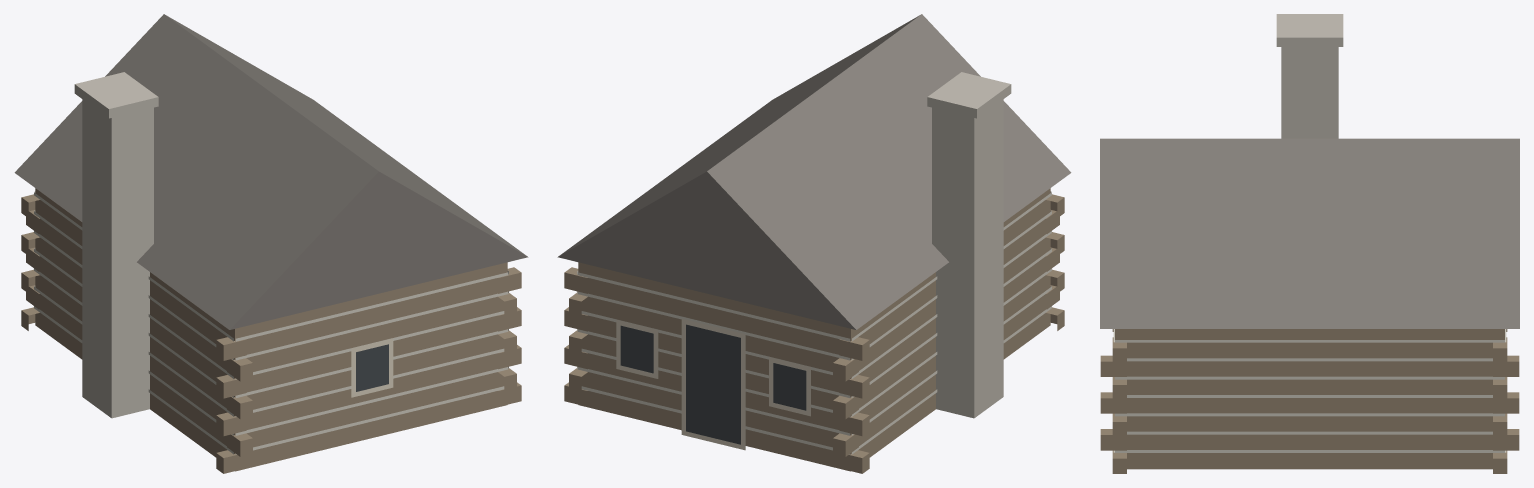
The model's file is recon_1835_blk_randolph_franklin_d1_06__inferred_1835.glb.
The picture shows the model from 3 angles, left to right: view 1: azimuth 30°, elevation 25°; view 2: azimuth 150°, elevation 25°; view 3: azimuth 270°, elevation 25°; orthographic projection. The views are drawn at different scales.
Parts seen in each view (by area): view 1: recon_1835_blk_randolph_franklin_d1_06__inferred_1835; view 2: recon_1835_blk_randolph_franklin_d1_06__inferred_1835; view 3: recon_1835_blk_randolph_franklin_d1_06__inferred_1835.
Part boxes in pixels (x1,y1,x2,y2): recon_1835_blk_randolph_franklin_d1_06__inferred_1835: (14,14,528,473); recon_1835_blk_randolph_franklin_d1_06__inferred_1835: (557,14,1071,473); recon_1835_blk_randolph_franklin_d1_06__inferred_1835: (1100,14,1519,473).
Bounding box in the file's own units: 6.22 × 5.71 × 7.04.
